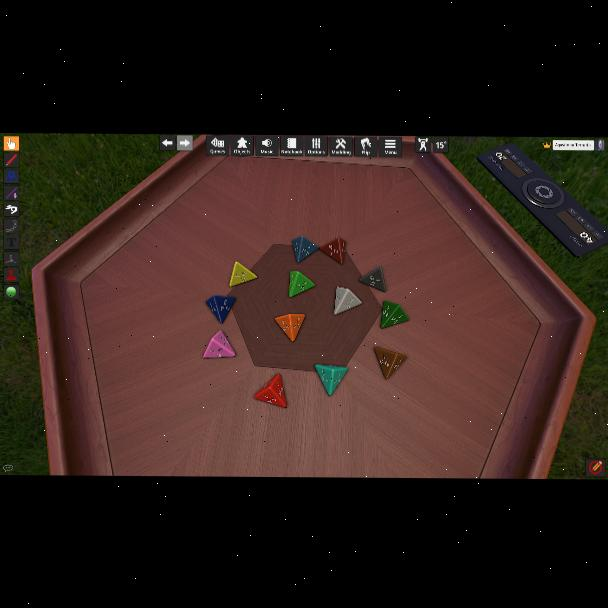d4: (253, 374, 287, 408), (374, 347, 406, 381), (314, 363, 346, 396), (203, 331, 235, 359), (205, 295, 235, 324), (274, 314, 304, 343), (334, 286, 362, 315), (318, 237, 345, 266), (293, 236, 319, 264), (382, 301, 408, 329), (229, 261, 257, 287), (288, 271, 314, 298), (358, 266, 385, 292)
